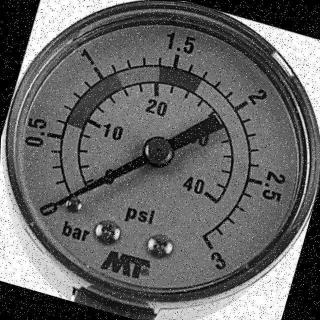gauge: (0, 0, 320, 320), (32, 182, 84, 224), (190, 229, 233, 270), (142, 135, 174, 167), (47, 195, 64, 212)
